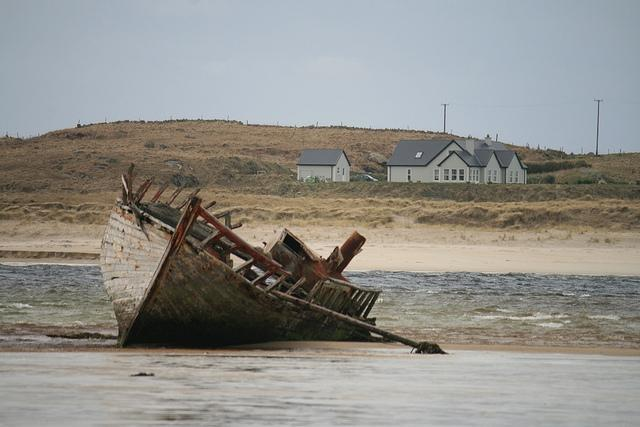car: (357, 174, 378, 181)
